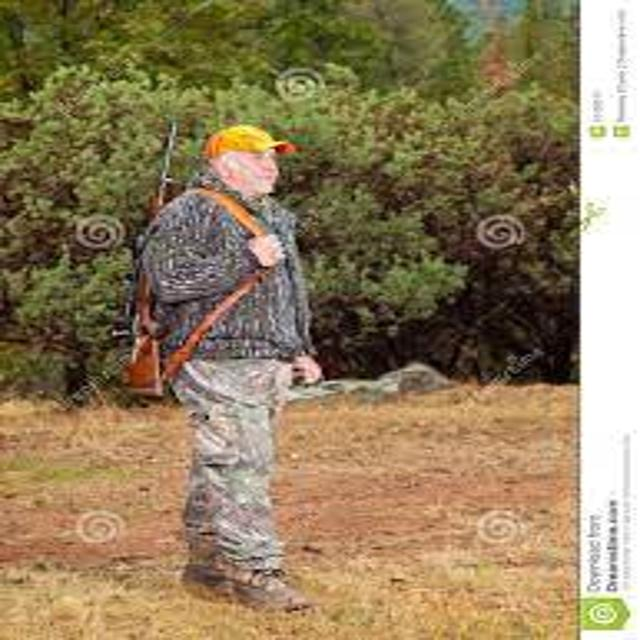gun: (107, 108, 198, 426)
poacher: (112, 98, 362, 628)
